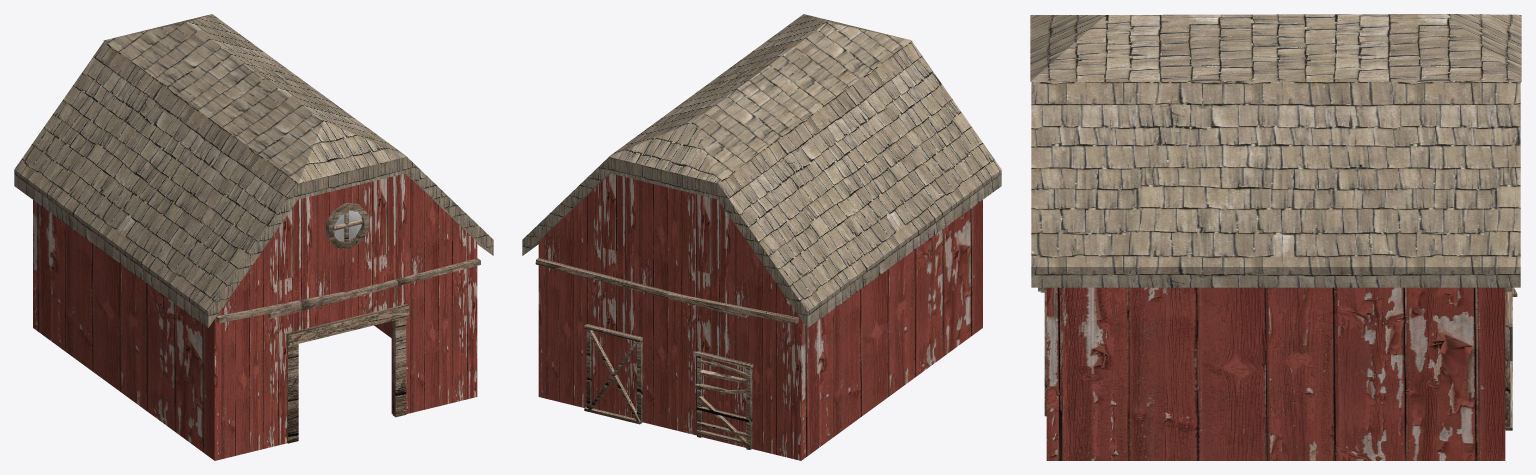
File: Barn5_reworked.FBX
3 renders of one model, left to right at view 1: azimuth 30°, elevation 25°; view 2: azimuth 150°, elevation 25°; view 3: azimuth 270°, elevation 25°, orthographic. The views are drawn at different scales.
Visible parts, largest first — view 1: Box001, Box003, Box005, Box002, Box008, Box009, Box007, Box006, Tube001, Box010; view 2: Box001, Box003, Box005, Box002, Box011, Box012, Box035, Box034, Box031, Box014; view 3: Box003, Box001, Box005, Box028.
Part boxes in pixels (x1,y1,x2,y2): Box001: (33,200,477,460); Box003: (14,41,493,327); Box005: (103,14,406,183); Box002: (233,173,470,293); Box008: (286,304,409,345); Box009: (268,258,480,318); Box007: (392,317,406,417); Box006: (287,344,298,443); Tube001: (326,203,369,248); Box010: (216,291,346,322); Box001: (538,200,982,460); Box003: (522,41,1001,327); Box005: (609,14,912,183); Box002: (546,173,781,292); Box011: (591,330,636,418); Box012: (702,357,746,447); Box035: (535,258,748,318); Box034: (667,292,798,323); Box031: (586,328,640,422); Box014: (746,368,752,449); Box003: (1031,82,1520,287); Box001: (1046,287,1505,460); Box005: (1030,14,1521,81); Box028: (1505,323,1509,429).
Bounding box in the file's own units: 690 × 671 × 817.
5 materials, 5 textured.
